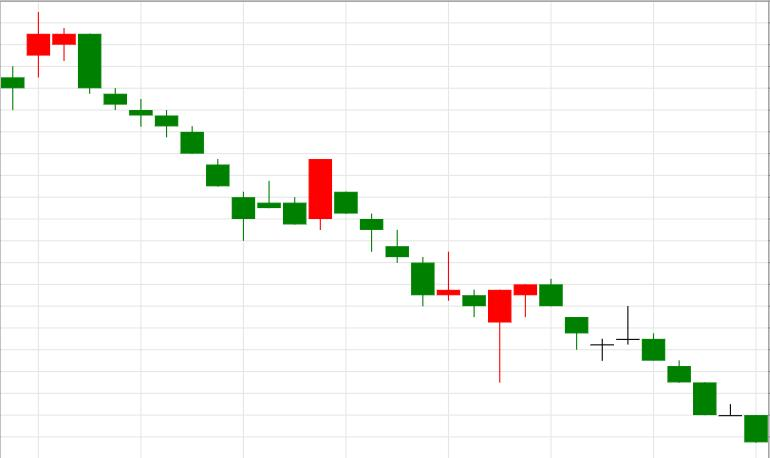hammer_rise: (334, 191, 512, 383)
